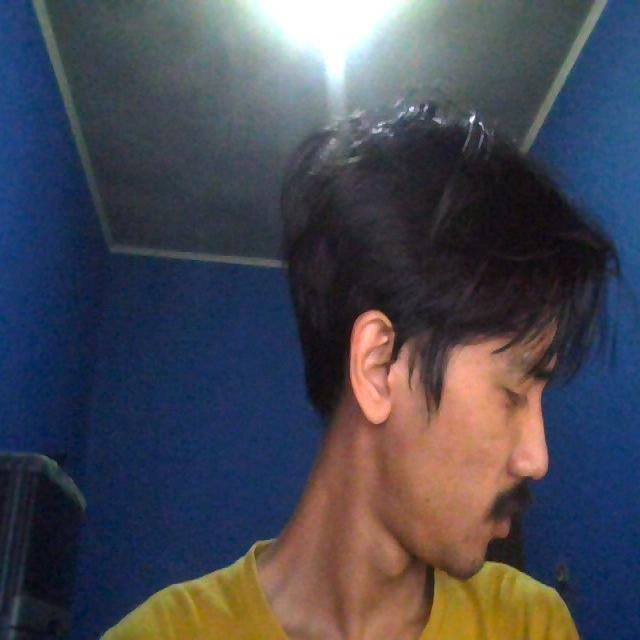melihat kekiri: (248, 88, 578, 577)
